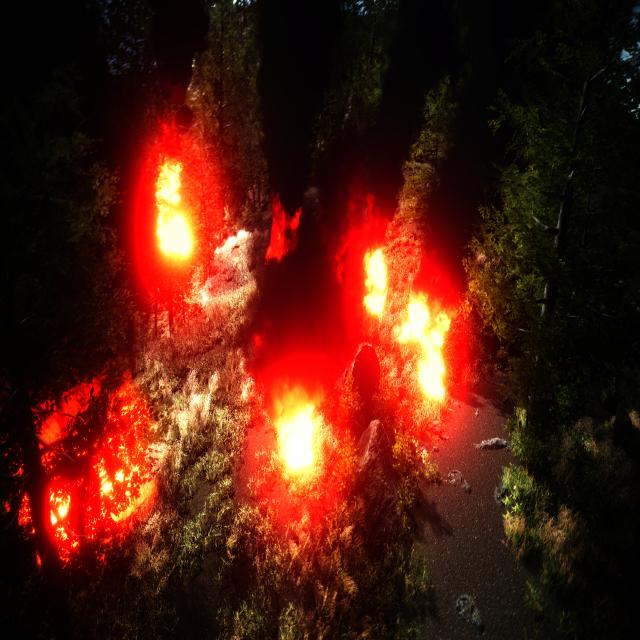Human: (393, 343, 404, 379)
